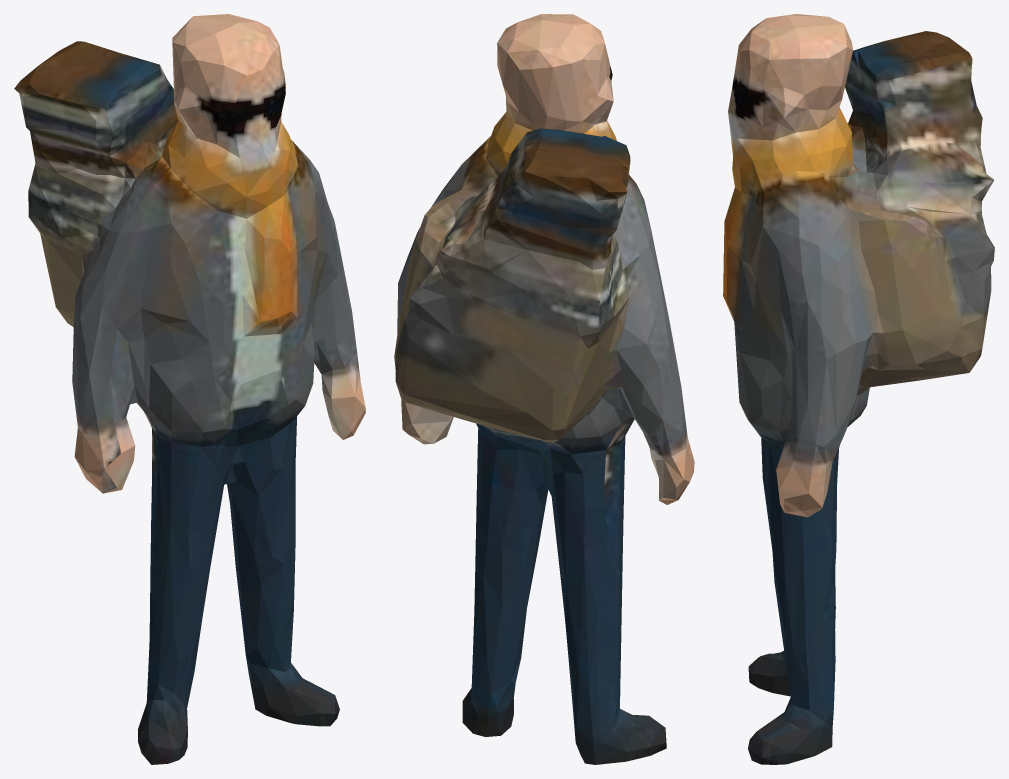
The model's file is habitant-loin.glb.
The picture shows the model from 3 angles, left to right: view 1: azimuth 30°, elevation 25°; view 2: azimuth 150°, elevation 25°; view 3: azimuth 270°, elevation 25°; orthographic projection. The views are drawn at different scales.
Visible parts, largest first — view 1: habitant; view 2: habitant; view 3: habitant.
Part boxes in pixels (bbox=[...]): habitant: bbox=[14, 14, 365, 764]; habitant: bbox=[394, 14, 694, 764]; habitant: bbox=[723, 14, 994, 764].
Bounding box in the file's own units: 0.4261 × 1.01 × 0.3558.
Materials: 1 (1 with a texture image).
